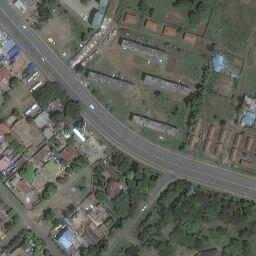tree: (49, 111, 64, 121), (8, 76, 19, 88), (94, 190, 106, 201), (43, 208, 54, 219), (11, 107, 20, 116), (74, 64, 83, 73), (80, 31, 88, 40), (138, 1, 146, 10), (149, 175, 159, 181), (178, 144, 186, 151), (219, 119, 225, 128), (149, 8, 155, 17), (154, 90, 161, 96)
